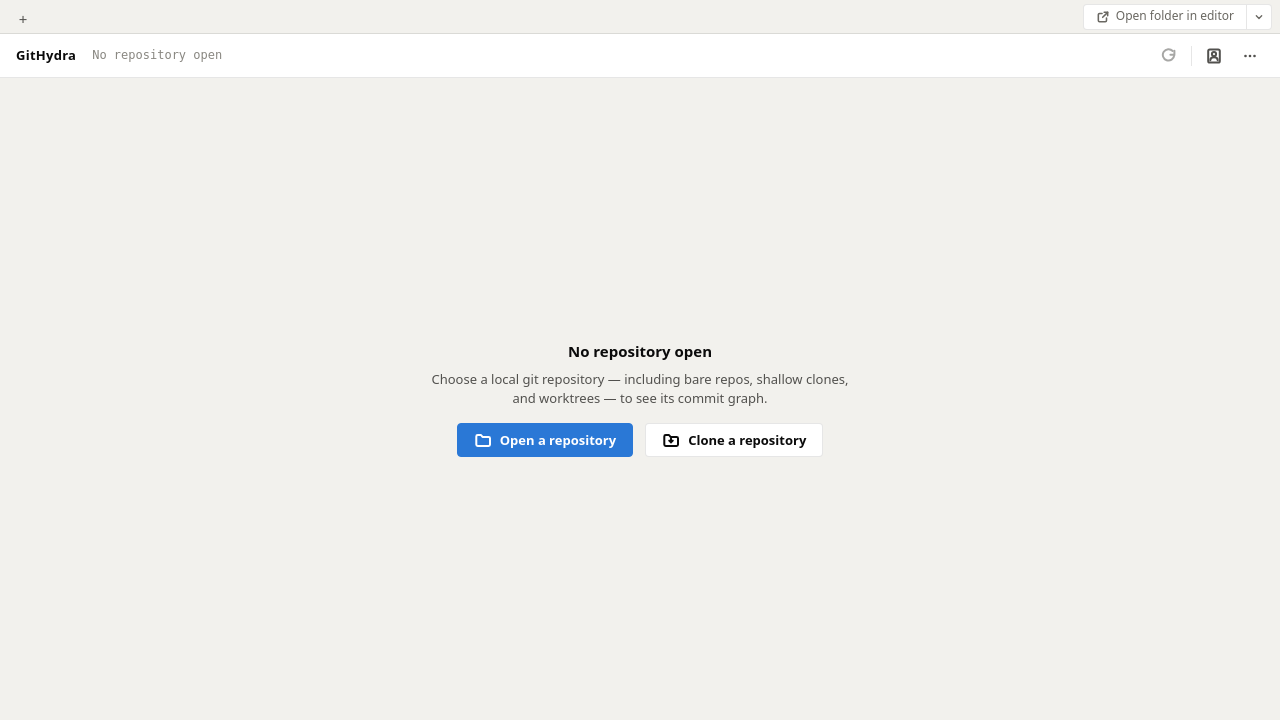
Test: remember-last-selected-file (specs/remember-last-selected-file.md) › AC1: a non-first file selected in DetailPanel survives a switch away and back
Click the button "Open a repository" at [545, 440], box [457,423,633,457]
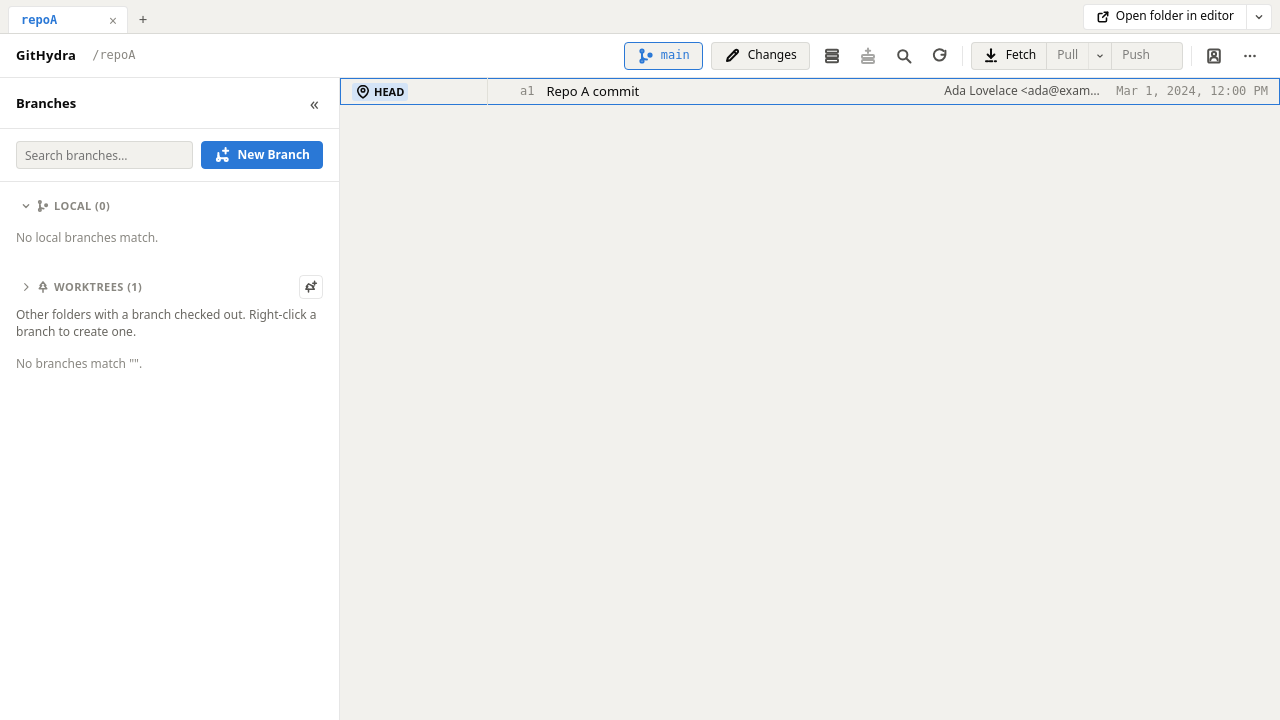
Result: the text "Repo A commit" is shown
Click the text "Repo A commit" at [593, 91], box [546,82,639,100]
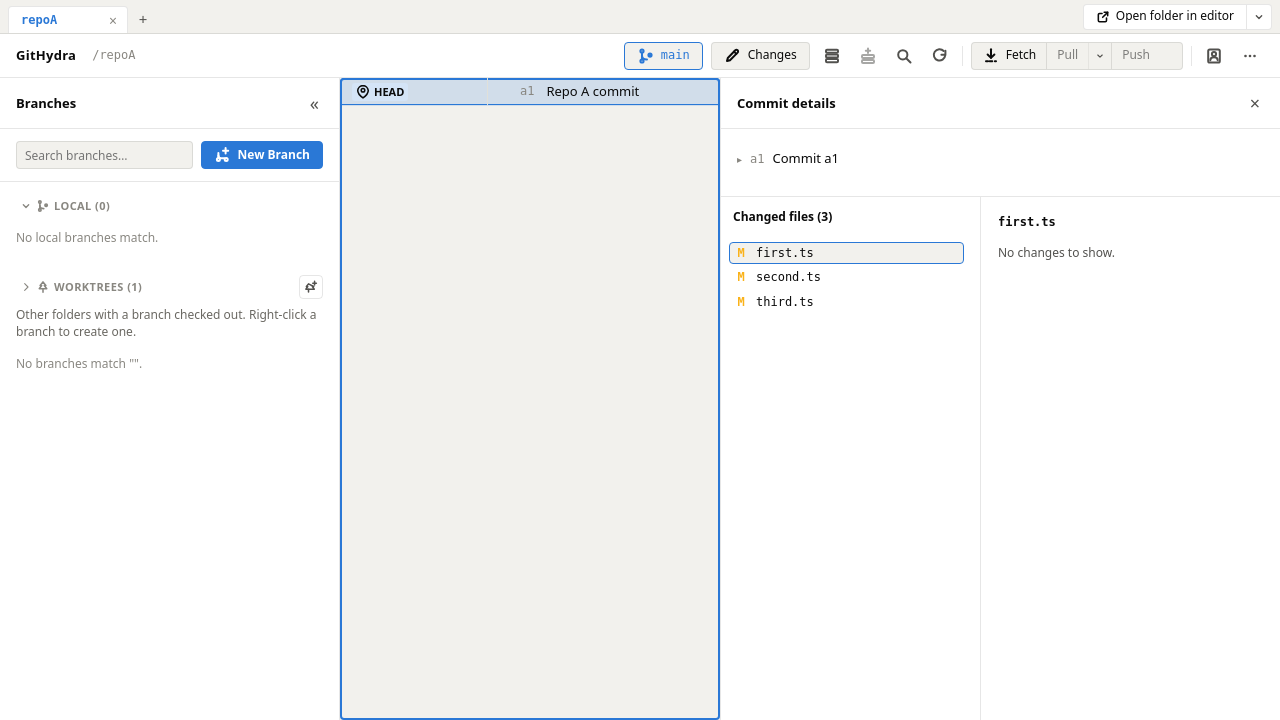
Result: the button "M first.ts" is shown at [729,242,964,264]
Click the button "M second.ts" at [846, 278], box [729,266,964,289]
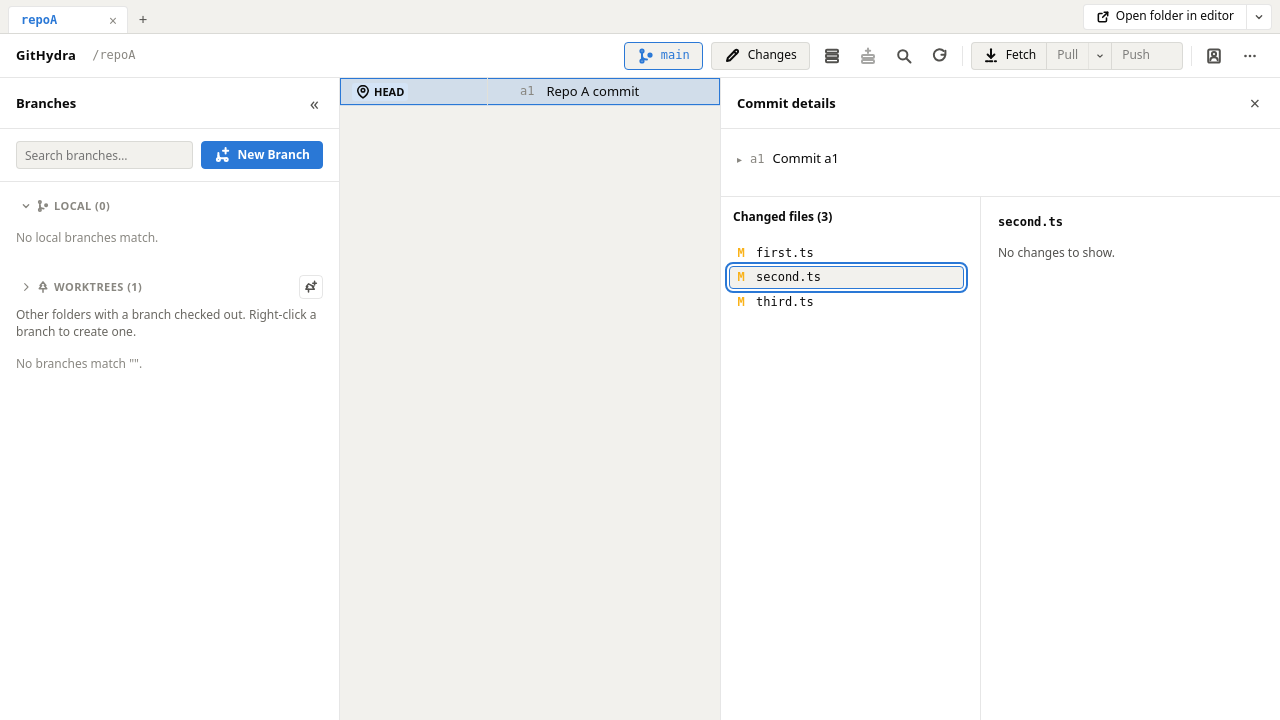
Result: the button "M second.ts" is pressed at [729,266,964,289]
Click the button named "open a repository in a new tab" at [143, 19], box [130,5,156,33]
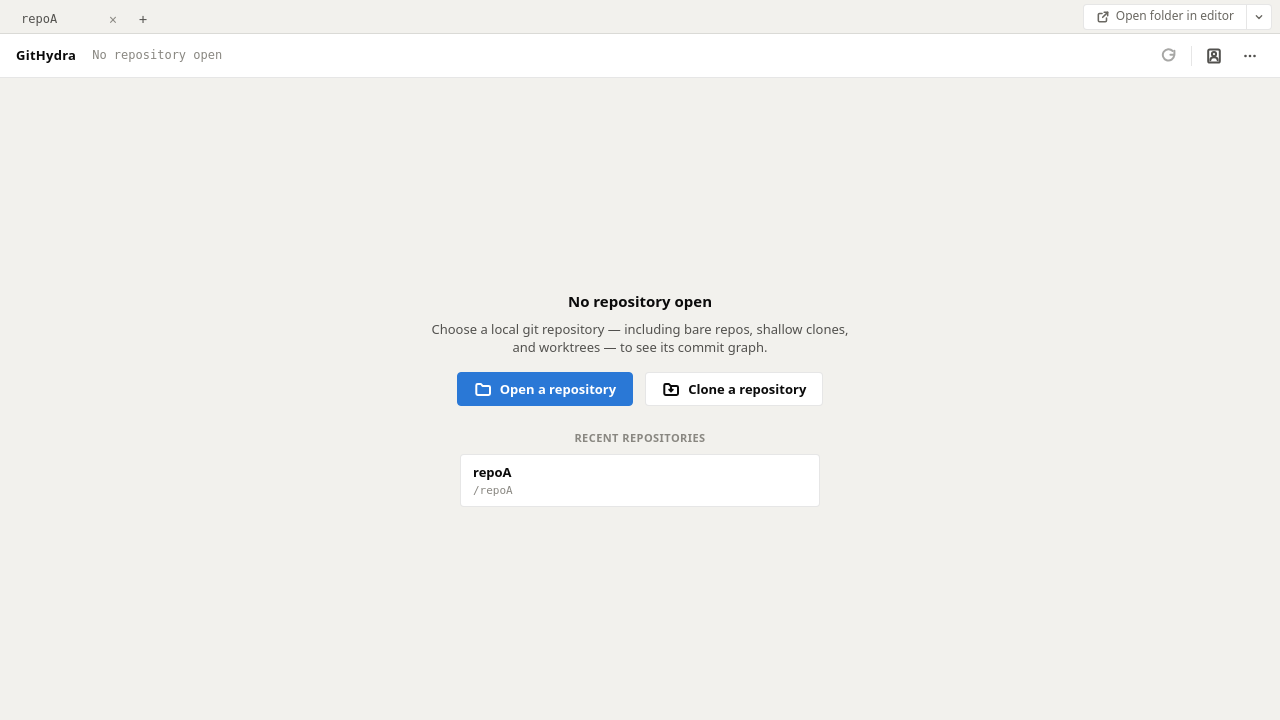
Click the button "Open a repository" at [545, 389], box [457,372,633,406]
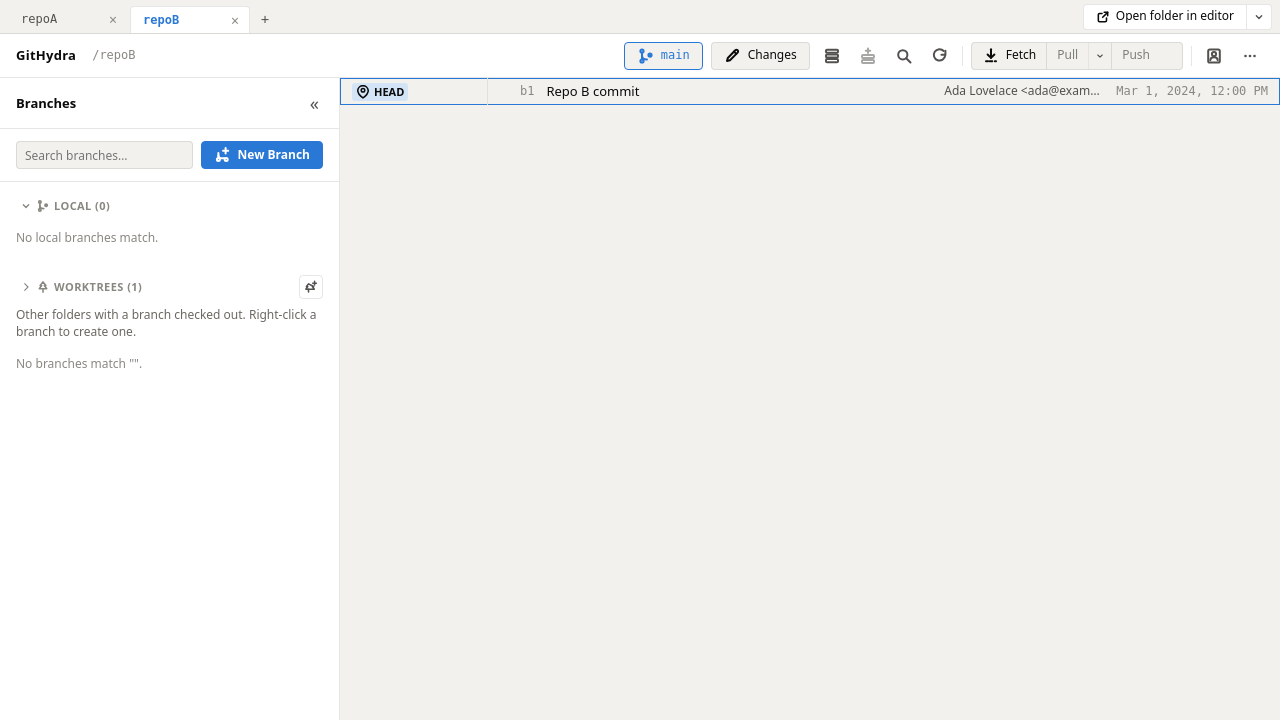
Result: the text "Repo B commit" is shown at [546,82,640,100]
Click the tab "repoA" at [60, 20], box [17,11,103,28]
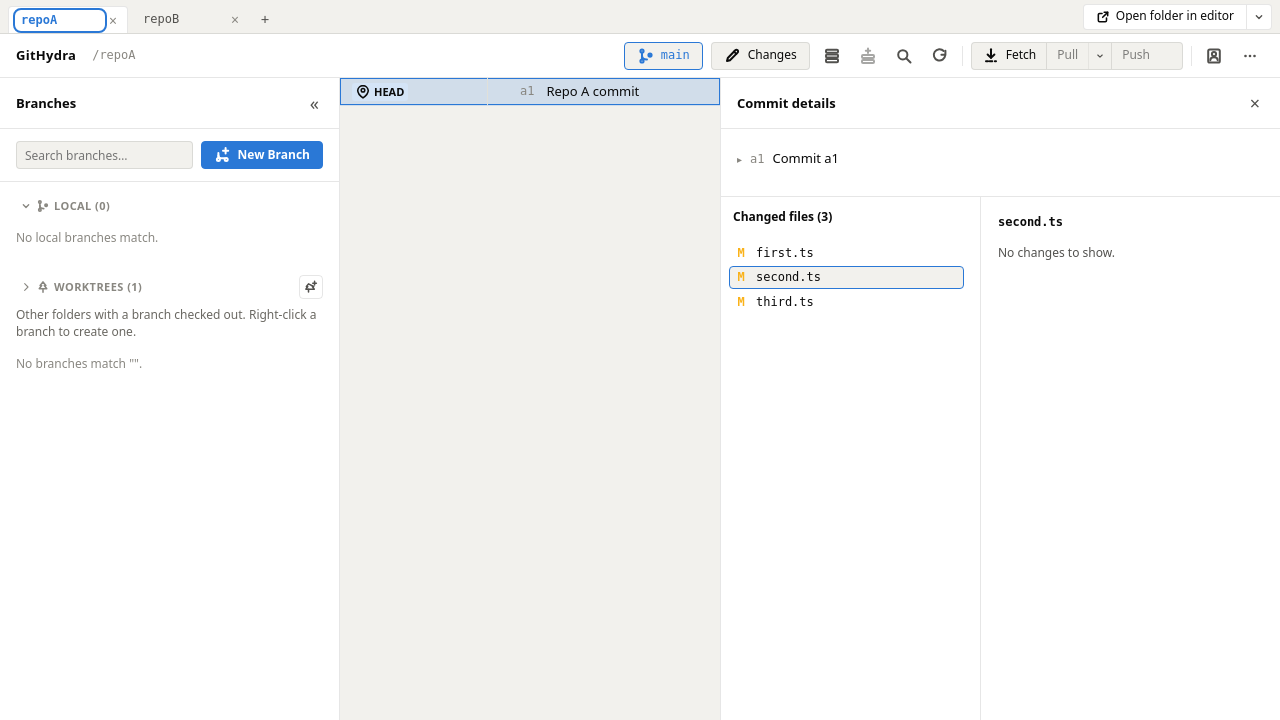
Result: the text "Repo A commit" is shown at [546,82,639,100]
